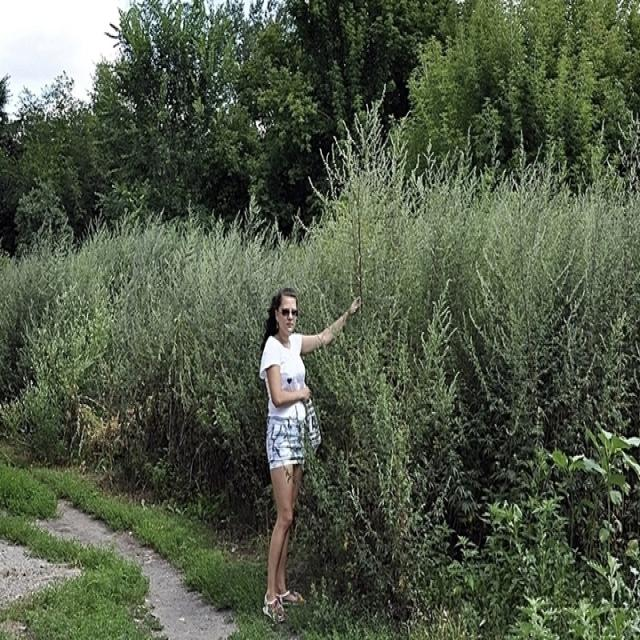ambrosia: (312, 84, 454, 588), (41, 210, 252, 430), (500, 136, 634, 428)
